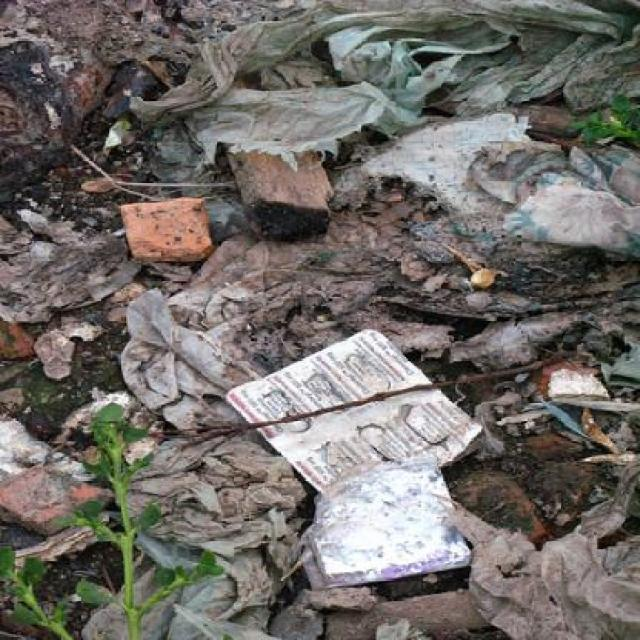garbage: (229, 320, 504, 588), (117, 195, 238, 266), (528, 355, 620, 407)
